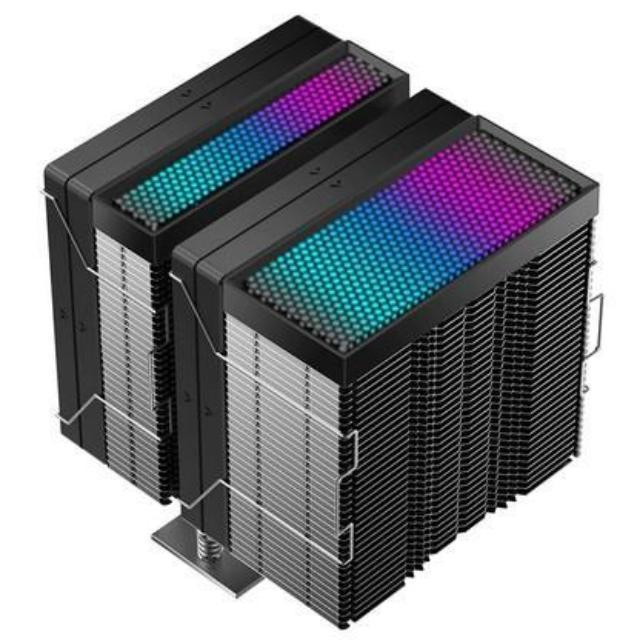CPU_Fan: (34, 8, 611, 640)
